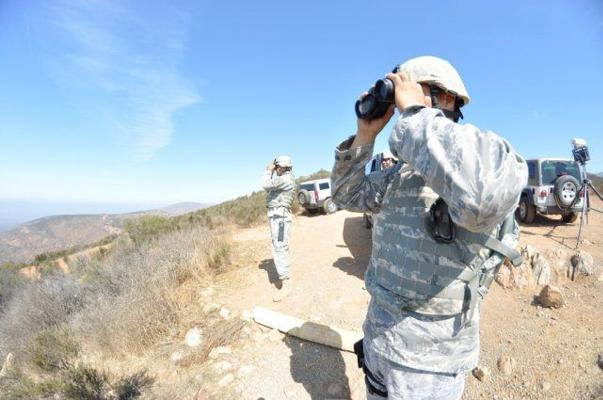person: (331, 55, 530, 399)
